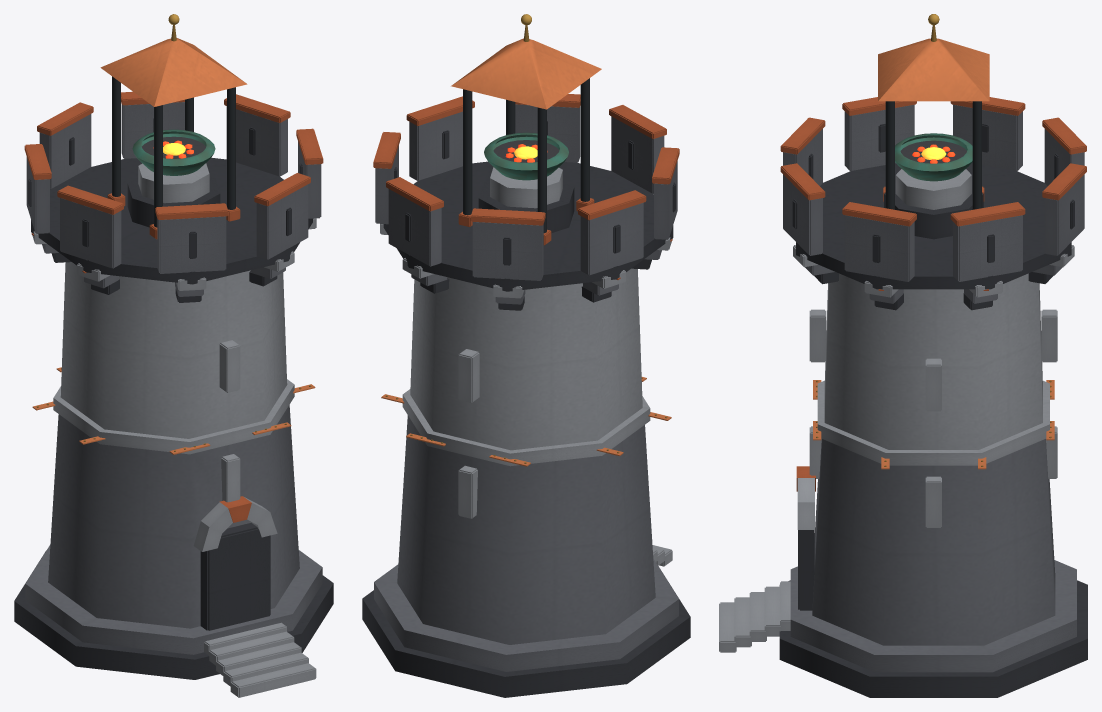
File: tower_drake_watch.glb
3 renders of one model, left to right at view 1: azimuth 30°, elevation 25°; view 2: azimuth 150°, elevation 25°; view 3: azimuth 270°, elevation 25°, orthographic. The views are drawn at different scales.
Visible parts, largest first — view 1: tower_drake_watch; view 2: tower_drake_watch; view 3: tower_drake_watch.
Boxes of the visible parts, <box> form: tower_drake_watch: <box>14,14,333,697</box>; tower_drake_watch: <box>362,14,690,697</box>; tower_drake_watch: <box>719,14,1087,697</box>.
Bounding box in the file's own units: 5.27 × 11.68 × 6.3.
1 material, 1 textured.
